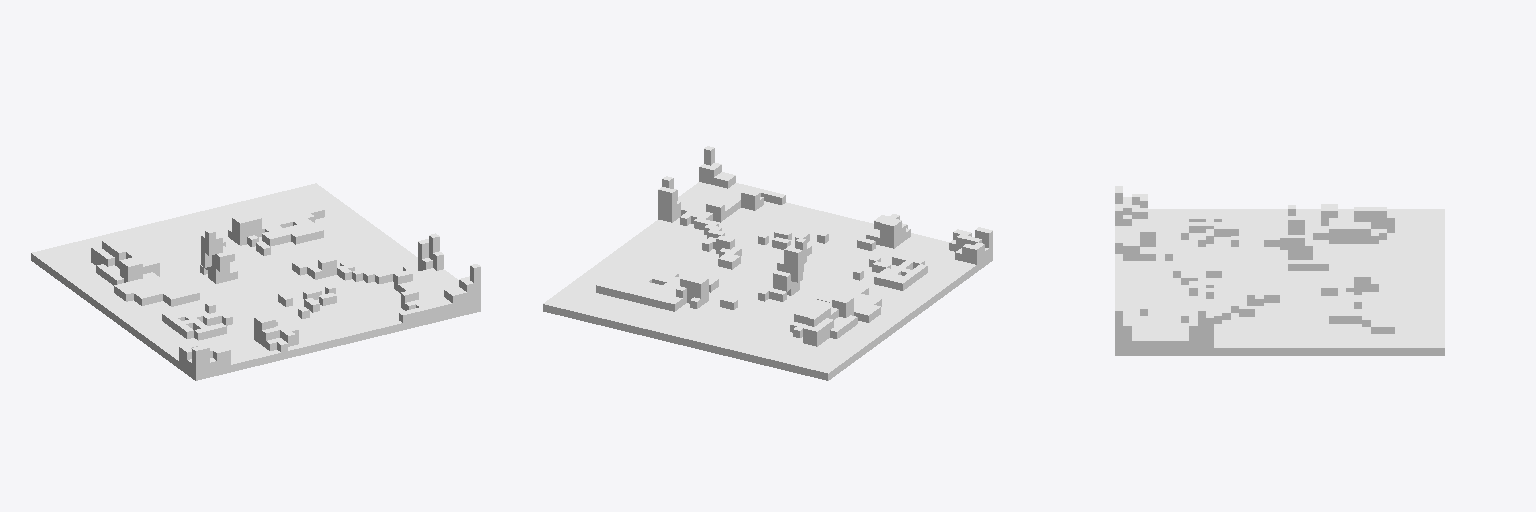
The model's file is glace.obj.
The picture shows the model from 3 angles: view 1: azimuth 30°, elevation 25°; view 2: azimuth 150°, elevation 25°; view 3: azimuth 270°, elevation 25°; orthographic projection.
Parts seen in each view (by area): view 1: object 1; view 2: object 1; view 3: object 1.
Part boxes in pixels (x1,y1,x2,y2): object 1: (31, 183, 480, 380); object 1: (543, 146, 992, 380); object 1: (1115, 186, 1444, 355).
Size of the model in its own units: 4 by 0.8 by 4.